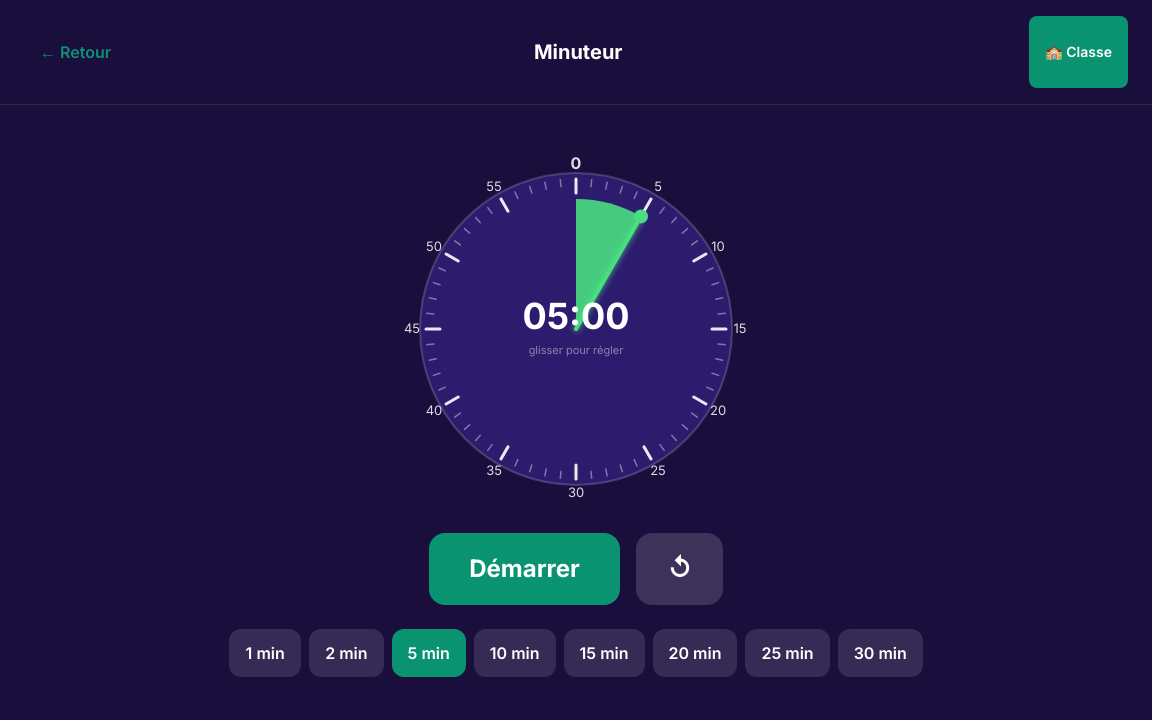
Test case: Timer › affiche Pause quand le minuteur tourne
Click the button "Démarrer".
click(525, 568)  # box [429,532,620,604]
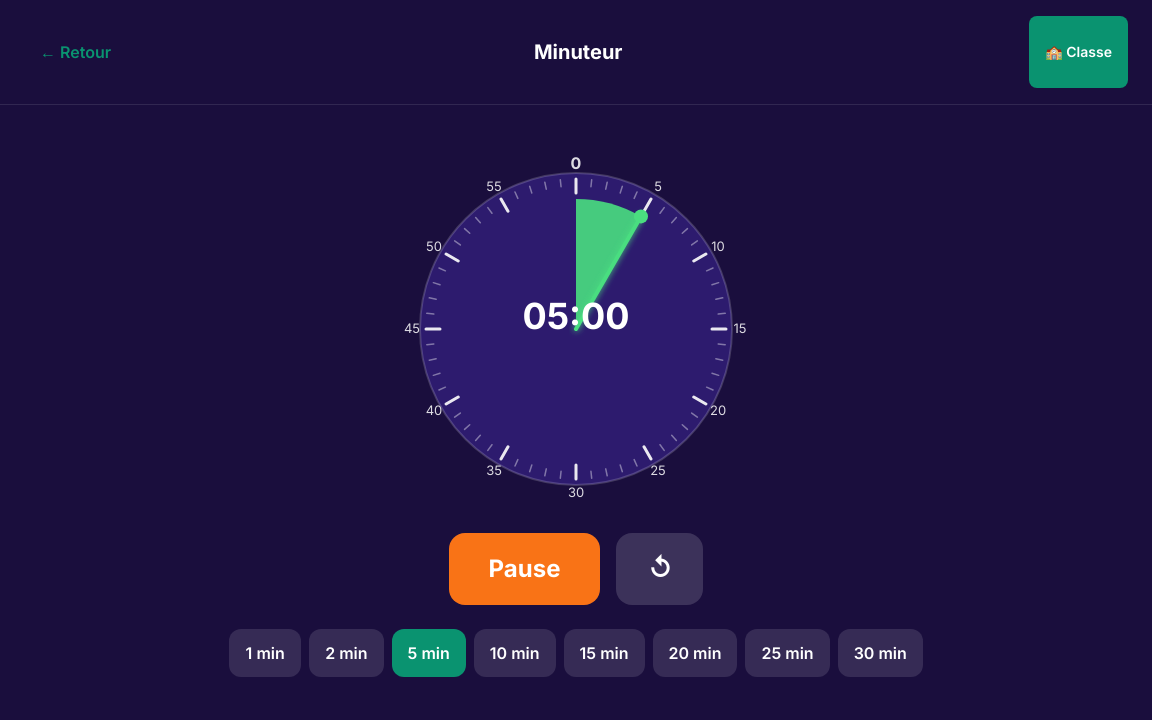
Result: the button "Pause" is shown at [449,532,600,604]
